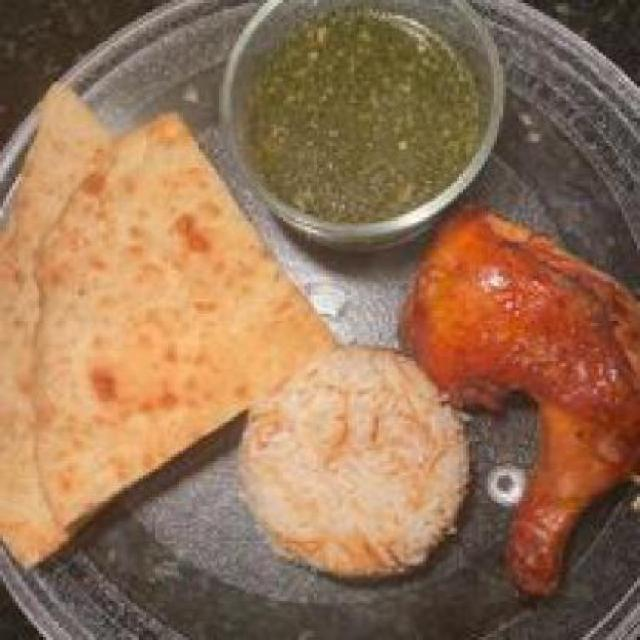fried rice: (249, 338, 476, 584)
molokhia: (233, 2, 513, 233)
